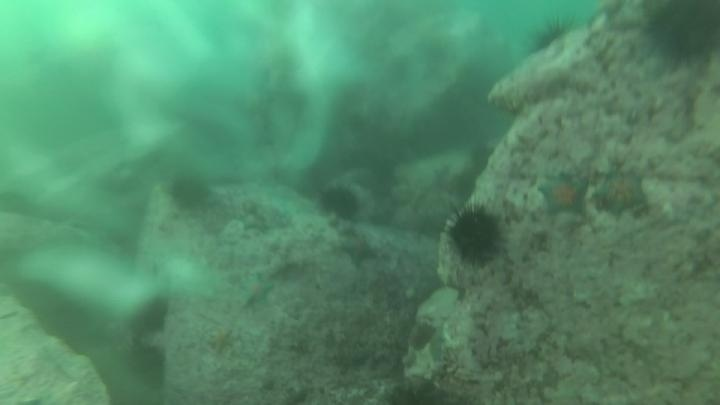echinus: (642, 1, 719, 69), (443, 202, 508, 267), (523, 16, 577, 61), (124, 341, 169, 389), (316, 183, 363, 223), (167, 173, 213, 213), (133, 295, 173, 338), (466, 141, 497, 178), (450, 168, 481, 203)
starfish: (590, 165, 651, 221), (536, 170, 592, 221), (337, 231, 380, 270), (236, 271, 277, 311), (204, 323, 238, 355)
